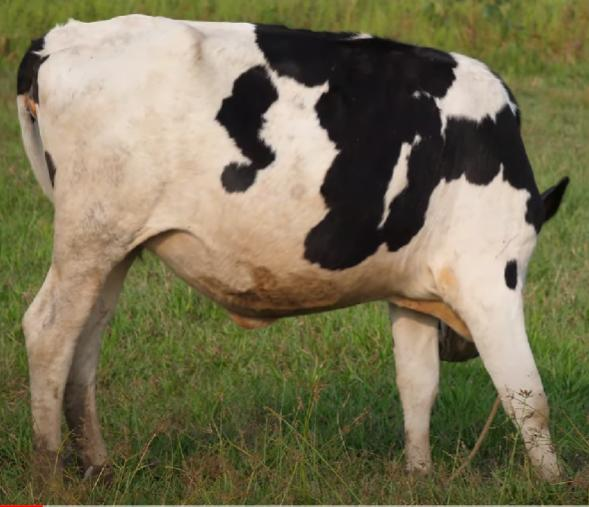cow: (28, 17, 569, 482)
